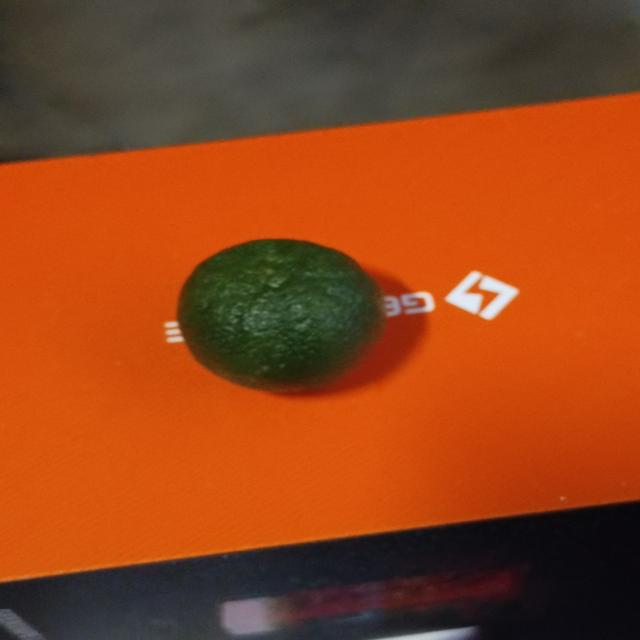heathy: (168, 228, 398, 400)
